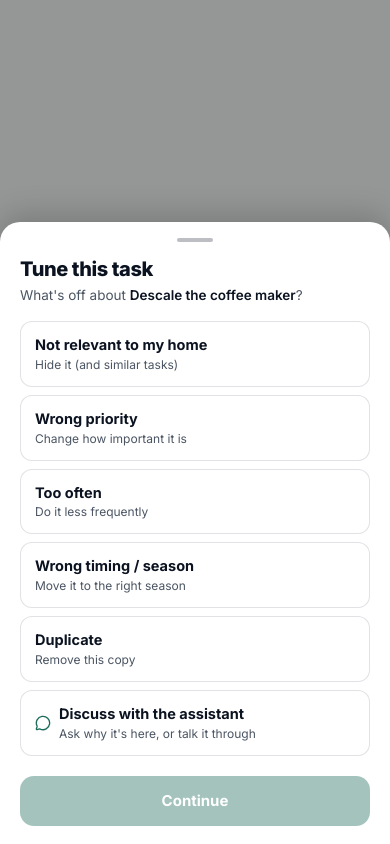
Scenario: TaskFeedbackSheet · confirm looks for similar tasks › Back then Continue looks again
Click the text "Not relevant to my home": (121, 345) [35, 334, 207, 356]
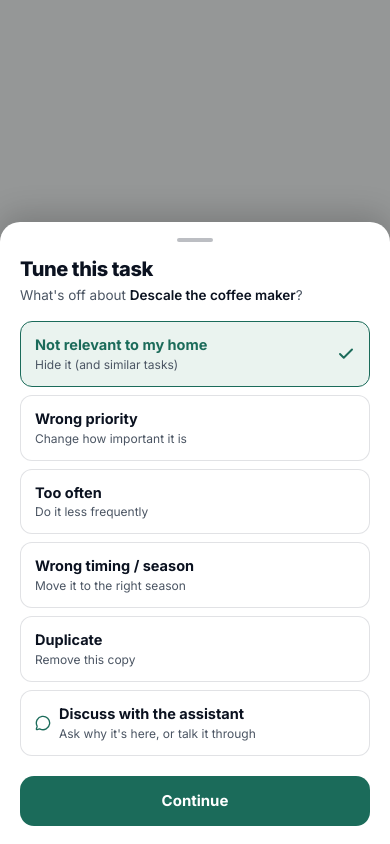
Click the button "Continue": (195, 801) [20, 776, 370, 826]
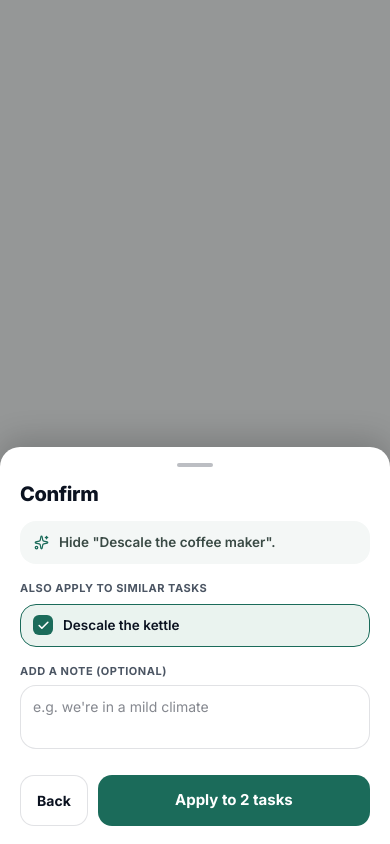
Expected: the text "Descale the kettle" is shown, [63, 615, 180, 636]
Click the button "Back": (54, 800) [20, 775, 88, 826]
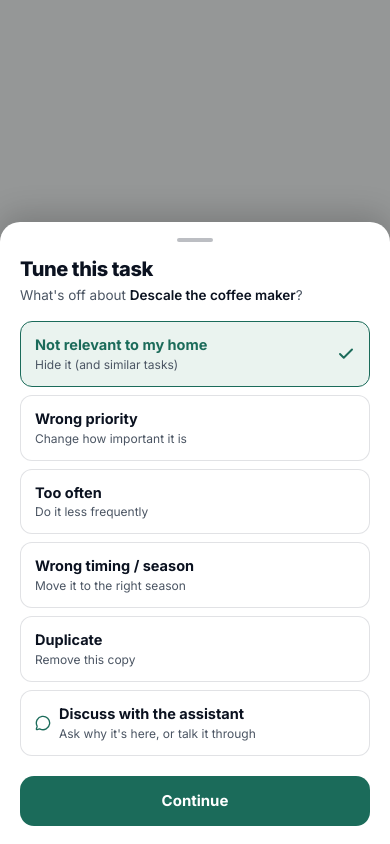
Click the button "Continue": (195, 801) [20, 776, 370, 826]
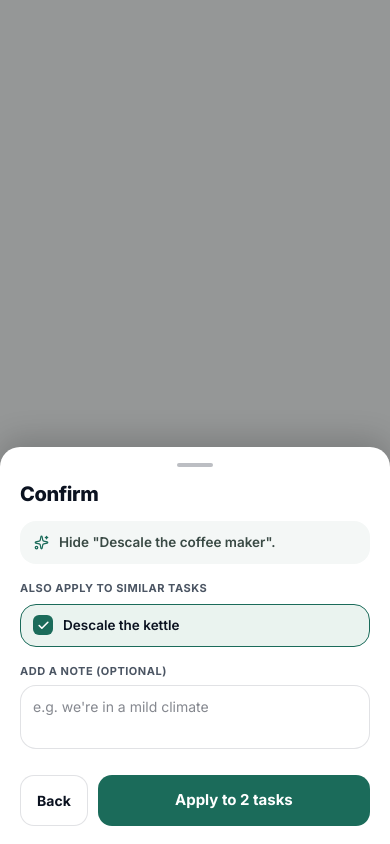
Expected: the text "Looking for similar tasks…" is shown, [20, 581, 207, 595]
